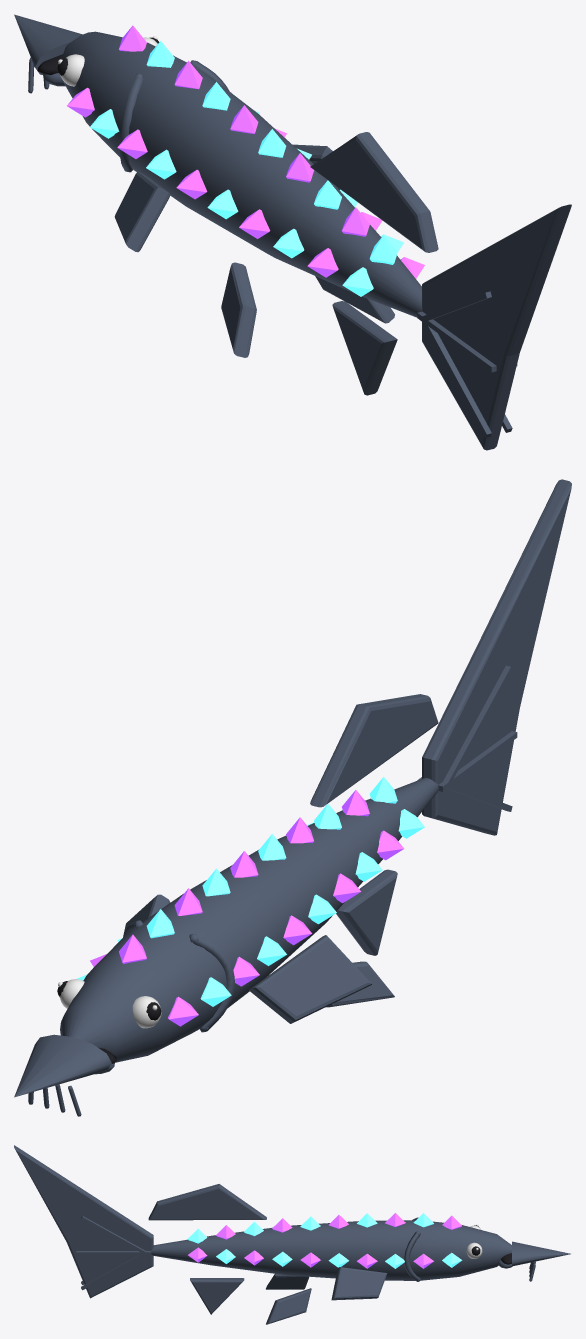
The model's file is FISH_AURORASTURGEON.glb.
The picture shows the model from 3 angles, top to bottom: view 1: azimuth 30°, elevation 25°; view 2: azimuth 150°, elevation 25°; view 3: azimuth 270°, elevation 25°; orthographic projection. The views are drawn at different scales.
Visible parts, largest first — view 1: SturgeonSlate, Glow, EyeWhite; view 2: SturgeonSlate, Glow, EyeWhite; view 3: SturgeonSlate, Glow.
Part boxes in pixels (x1,y1,x2,y2): SturgeonSlate: (14,14,571,450); Glow: (67,25,424,296); EyeWhite: (58,36,157,86); SturgeonSlate: (14,479,571,1116); Glow: (76,777,424,1026); EyeWhite: (58,979,161,1028); SturgeonSlate: (14,1145,570,1324); Glow: (188,1213,462,1268).
Bounding box in the file's own units: 1.8 × 2.32 × 7.
